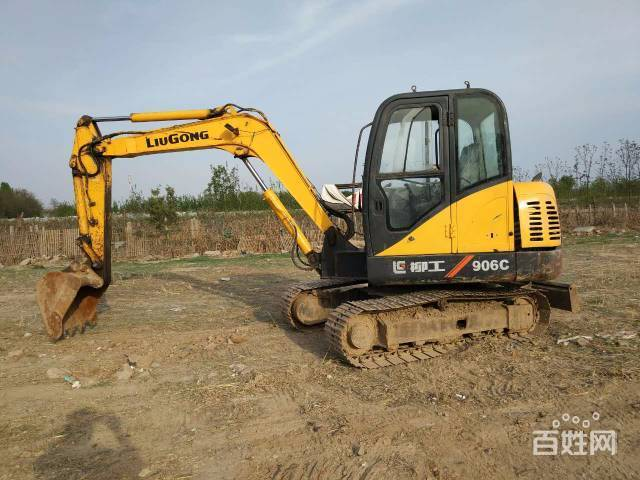excavator: (28, 81, 573, 375)
